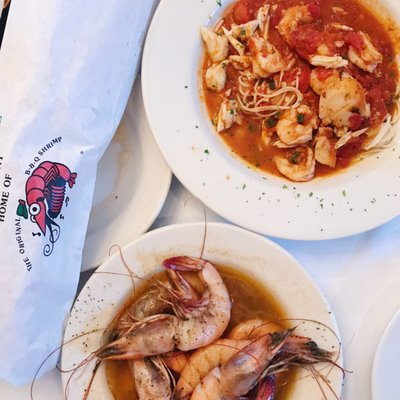sushi: (38, 220, 345, 400)
